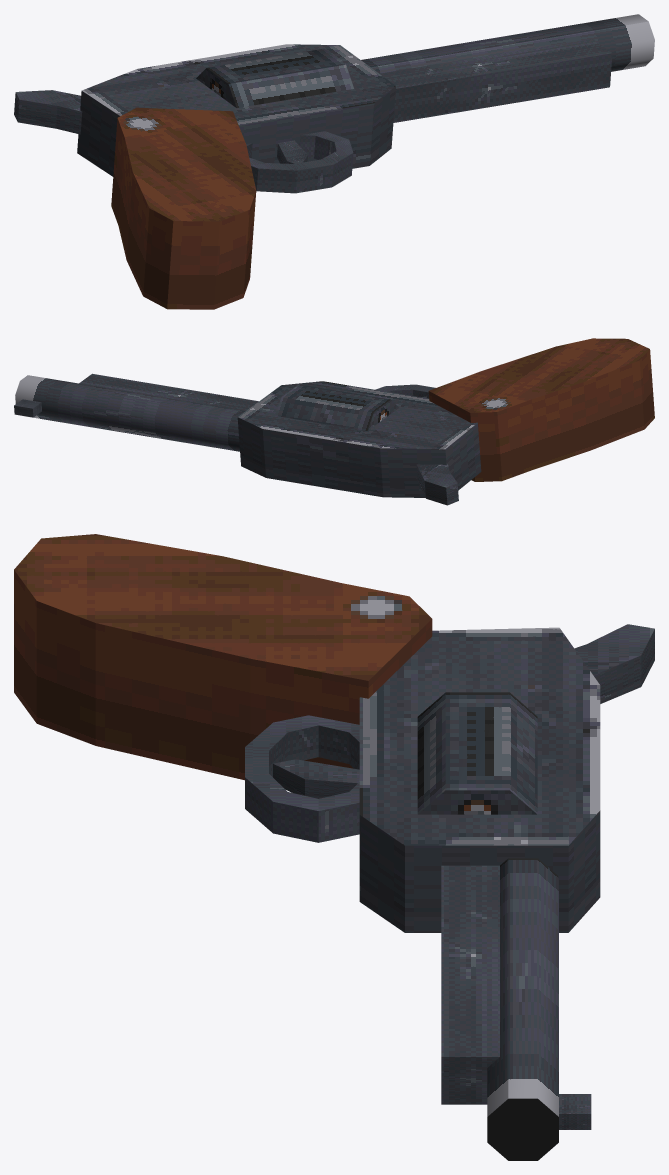
The model's file is revolver.glb.
The picture shows the model from 3 angles, top to bottom: view 1: azimuth 30°, elevation 25°; view 2: azimuth 150°, elevation 25°; view 3: azimuth 270°, elevation 25°; orthographic projection. The views are drawn at different scales.
Parts seen in each view (by area): view 1: revolver; view 2: revolver; view 3: revolver.
Part boxes in pixels (x1=…): revolver: x1=14, y1=14, x2=654, y2=309; revolver: x1=14, y1=338, x2=654, y2=505; revolver: x1=14, y1=534, x2=654, y2=1160.
Bounding box in the file's own units: 0.2411 × 0.0414 × 0.141.
1 material, 1 textured.
